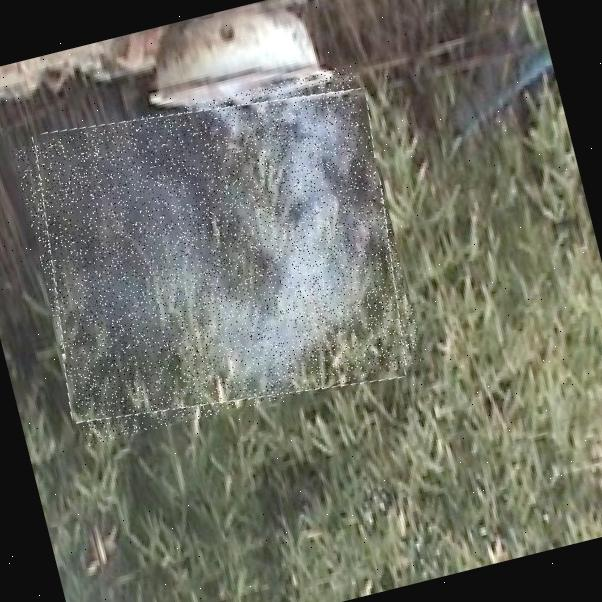smoke: (11, 63, 425, 447)
